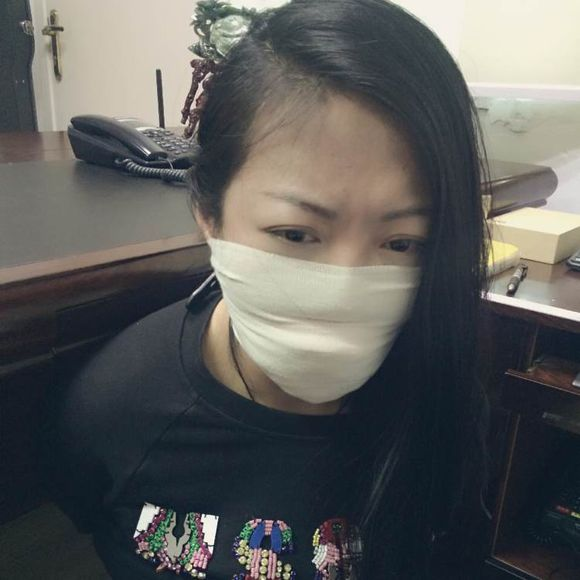face_mask: (220, 101, 429, 388)
